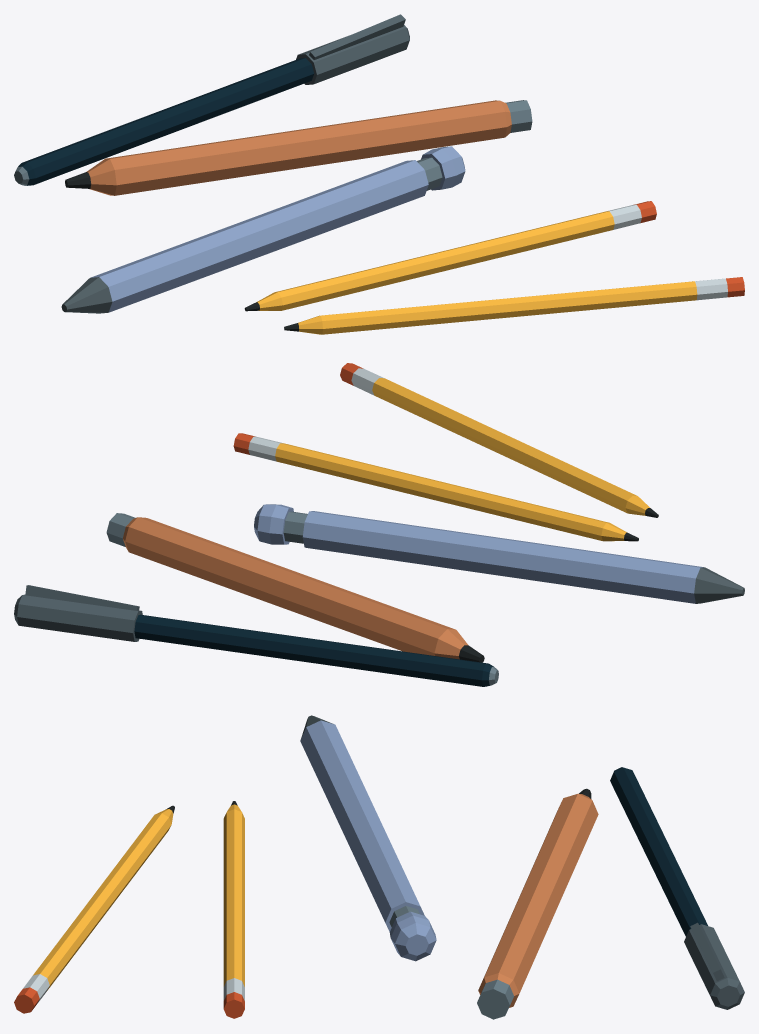
File: FurnAcc_PensV2.fbx
3 renders of one model, top to bottom at view 1: azimuth 30°, elevation 25°; view 2: azimuth 150°, elevation 25°; view 3: azimuth 270°, elevation 25°, orthographic. The views are drawn at different scales.
Parts seen in each view (by area): view 1: FurnAcc_PensV2; view 2: FurnAcc_PensV2; view 3: FurnAcc_PensV2.
Boxes of the visible parts, x1,y1,x2,y2 form: FurnAcc_PensV2: (14, 14, 744, 334); FurnAcc_PensV2: (14, 363, 744, 686); FurnAcc_PensV2: (14, 715, 744, 1019).
Size of the model in its own units: 26.52 by 1.99 by 29.11.
